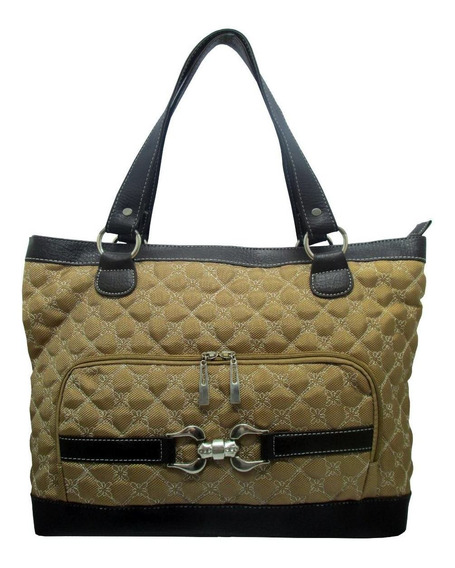cartera: (22, 26, 432, 541)
